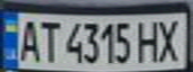1: (100, 19, 118, 64)
3: (81, 19, 100, 64)
4: (60, 18, 84, 64)
5: (115, 19, 136, 64)
A: (15, 16, 42, 63)
H: (136, 17, 163, 64)
T: (36, 17, 60, 63)
X: (154, 16, 184, 63)
